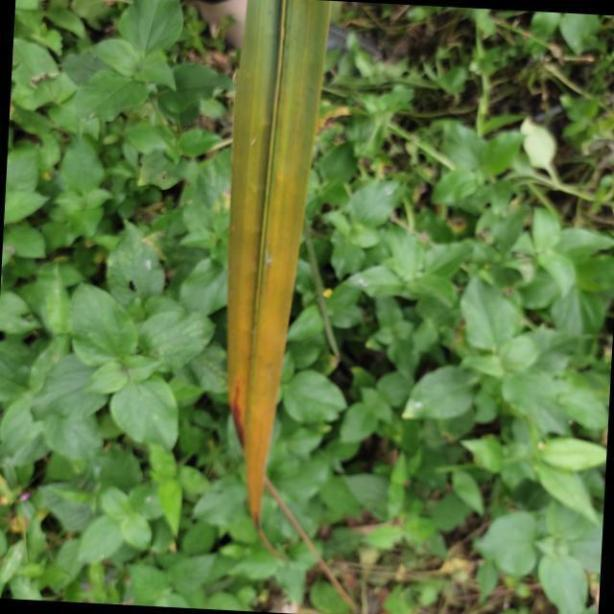Megnesium: (216, 0, 331, 569)
